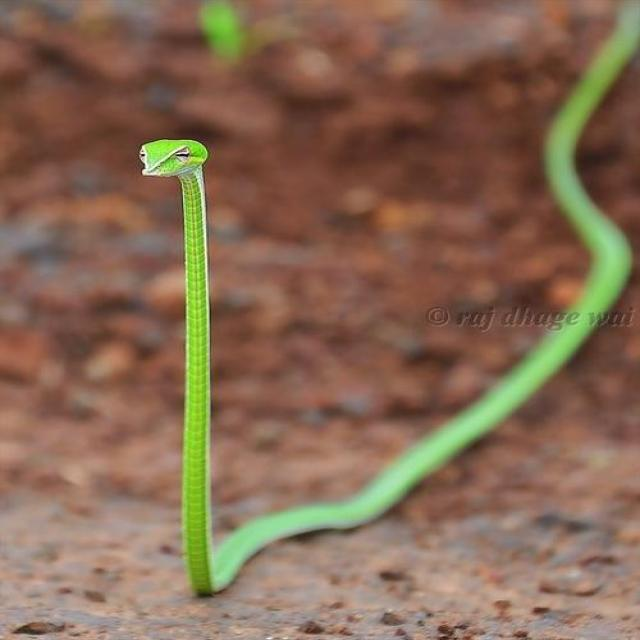Snake: (138, 1, 639, 596)
